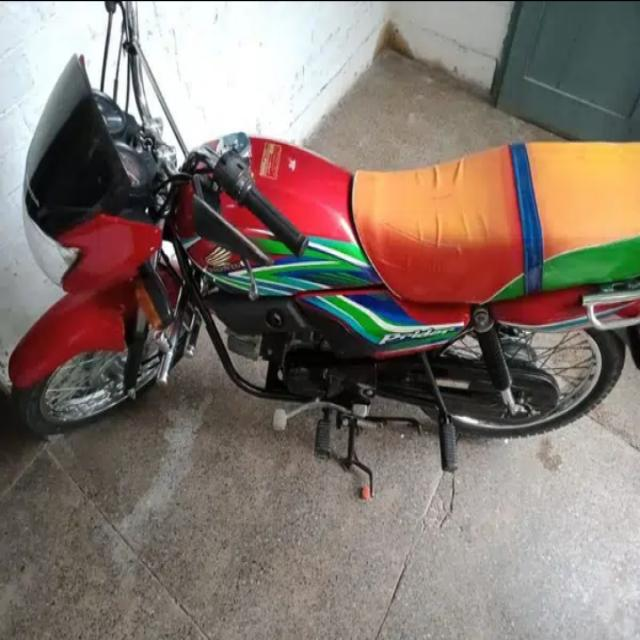Bike: (0, 5, 640, 596)
